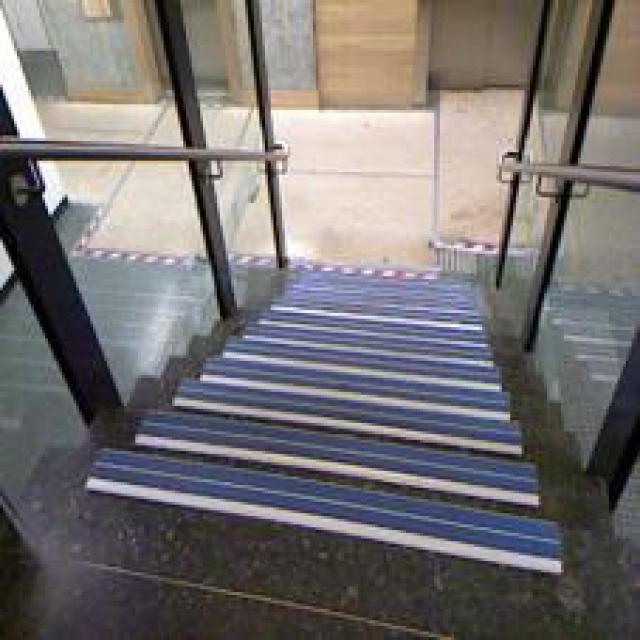downstair: (80, 362, 556, 587)
